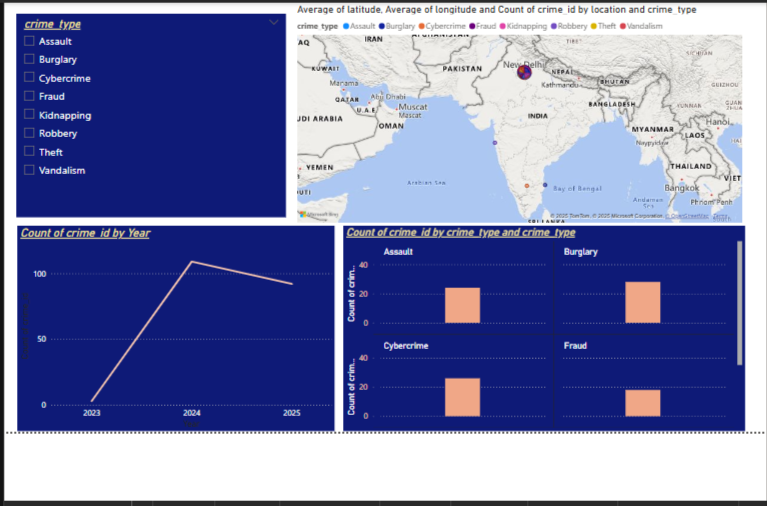

Layout of this report page (visuals, bound fields, positions):
{"tool":"powerbi","page":{"name":"Dashboard","canvas":[1280,720],"ordinal":3},"visuals":[{"type":"slicer","fields":{"Values":["crime.crime_type"]},"box":[20,18.3,453.3,341.7],"z":0},{"type":"map","fields":{"Series":["crime.crime_type"],"Y":["Avg(crime.latitude)"],"X":["Avg(crime.longitude)"],"Size":["CountNonNull(crime.crime_id)"],"Category":["crime.location"]},"box":[486.7,0,758.3,375],"z":1000},{"type":"lineChart","fields":{"Y":["CountNonNull(crime.crime_id)"],"Category":["crime.date_time.Variation.Date Hierarchy.Year","crime.date_time.Variation.Date Hierarchy.Quarter","crime.date_time.Variation.Date Hierarchy.Month","crime.date_time.Variation.Date Hierarchy.Day"]},"box":[21.7,375,533.3,345],"z":2000},{"type":"clusteredColumnChart","fields":{"Rows":["crime.crime_type"],"Category":["crime.crime_type"],"Y":["CountNonNull(crime.crime_id)"]},"box":[570,375,675,345],"z":3000}]}

Visuals, with their boxes on the page's 1280x720 design canvas (x1, y1, x2, y2). These are canvas units, not pixel positions in the 767x506 screenshot, which may show the page scaled, cropped or inside an application window:
slicer - crime.crime_type: <region>20, 18, 473, 360</region>
map - crime.crime_type x Avg(crime.latitude): <region>487, 0, 1245, 375</region>
lineChart - CountNonNull(crime.crime_id) x crime.date_time.Variation.Date Hierarchy.Year: <region>22, 375, 555, 720</region>
clusteredColumnChart - crime.crime_type x crime.crime_type: <region>570, 375, 1245, 720</region>
